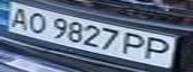2: (81, 21, 103, 50)
7: (100, 26, 124, 53)
8: (63, 19, 87, 45)
9: (45, 15, 72, 40)
A: (0, 5, 33, 30)
O: (21, 9, 51, 35)
P: (139, 35, 181, 62), (121, 30, 151, 57)
